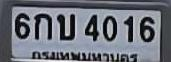0: (102, 14, 116, 40)
1: (123, 15, 132, 41)
4: (84, 13, 98, 40)
6: (14, 12, 29, 38), (139, 16, 154, 41)
A01: (33, 12, 51, 39)
A26: (56, 13, 74, 40)
BKK: (30, 47, 140, 62)
